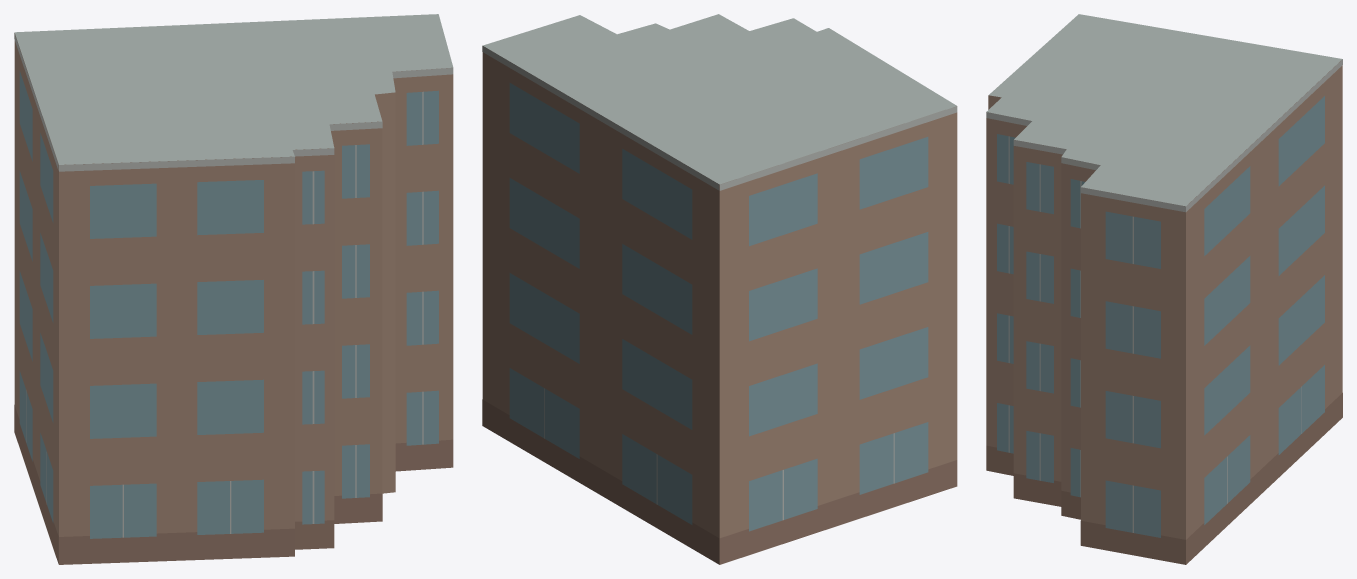
File: survey-upis-32676638.glb
The picture shows the model from 3 angles, left to right: view 1: azimuth 30°, elevation 25°; view 2: azimuth 150°, elevation 25°; view 3: azimuth 270°, elevation 25°; orthographic projection. The views are drawn at different scales.
Parts seen in each view (by area): view 1: survey-upis-32676638.tmp; view 2: survey-upis-32676638.tmp; view 3: survey-upis-32676638.tmp.
Boxes of the visible parts, left/top/right/bottom form: survey-upis-32676638.tmp: left=14, top=14, right=453, bottom=564; survey-upis-32676638.tmp: left=482, top=14, right=957, bottom=564; survey-upis-32676638.tmp: left=986, top=14, right=1342, bottom=564.
Size of the model in its own units: 16.69 by 14.5 by 13.07.
